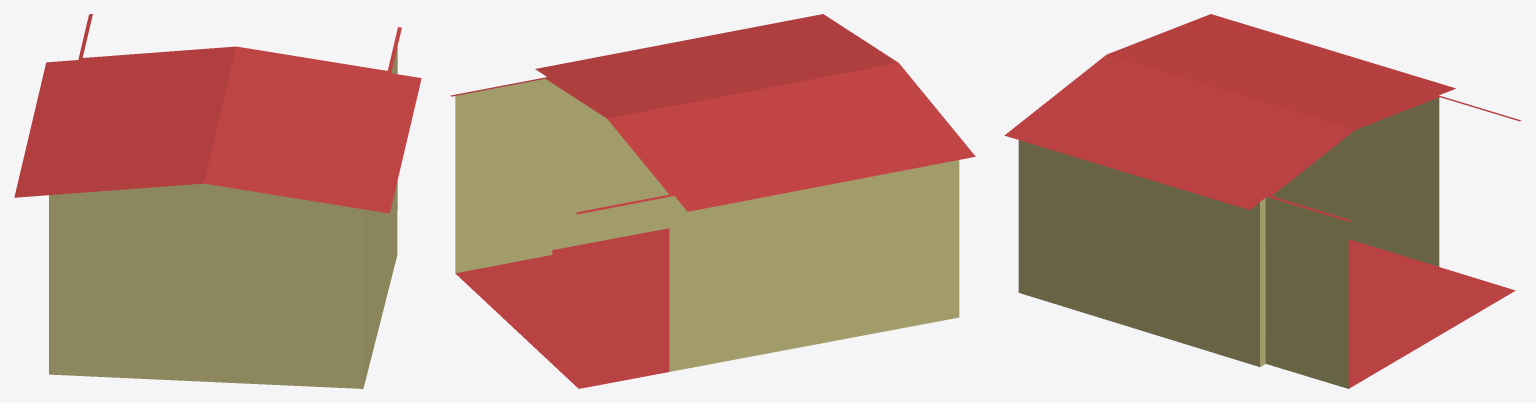
3 views of the same model, side by side, from view 1: azimuth 30°, elevation 25°; view 2: azimuth 150°, elevation 25°; view 3: azimuth 270°, elevation 25° (orthographic). The views are drawn at different scales.
Bounding box in the file's own units: 33.73 × 34.89 × 13.88.
